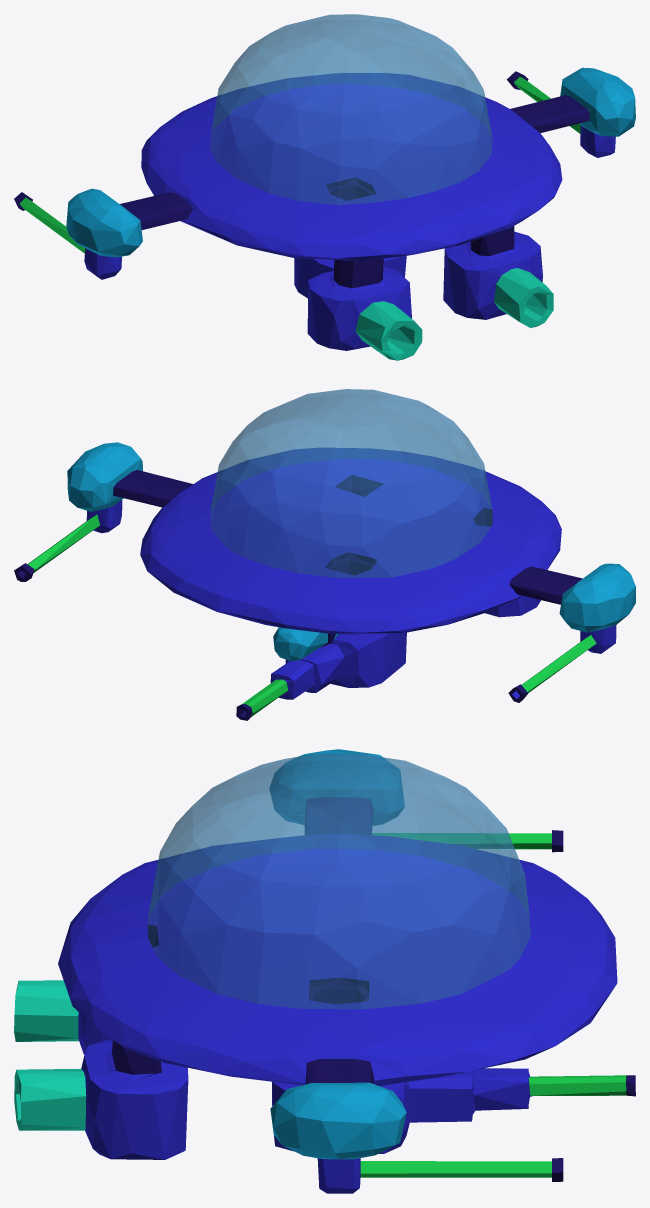
File: shipModel.obj
3 views of the same model, one above another, from view 1: azimuth 30°, elevation 25°; view 2: azimuth 150°, elevation 25°; view 3: azimuth 270°, elevation 25° (orthographic). The views are drawn at different scales.
Parts seen in each view (by area): view 1: Ship.001; view 2: Ship.001; view 3: Ship.001.
Part boxes in pixels (left/top/right/bottom): Ship.001: left=14, top=14, right=635, bottom=360; Ship.001: left=14, top=389, right=635, bottom=720; Ship.001: left=14, top=749, right=635, bottom=1193.
Size of the model in its own units: 12.72 by 5.75 by 9.11.
